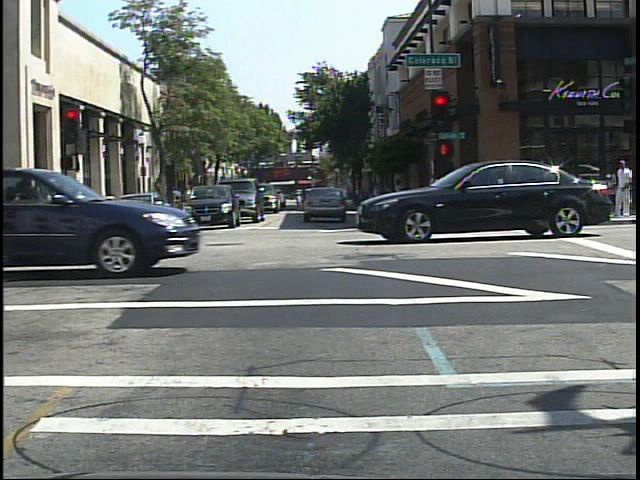person: (611, 156, 638, 221), (168, 182, 186, 222)
